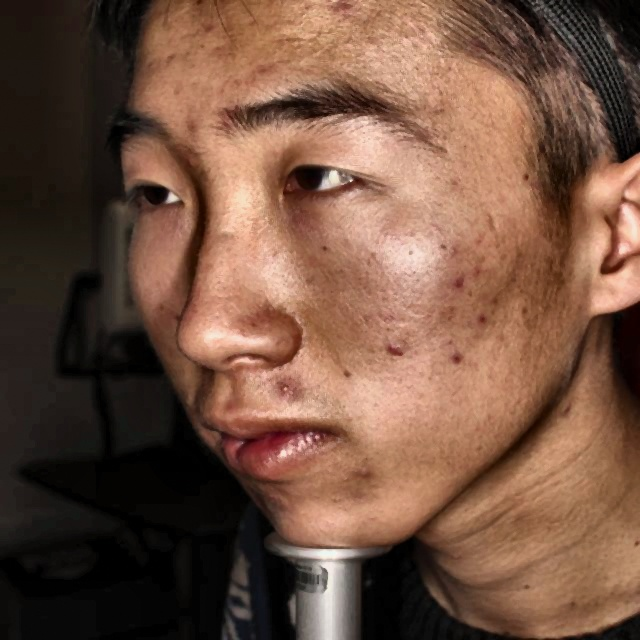comedone: (273, 377, 298, 401)
